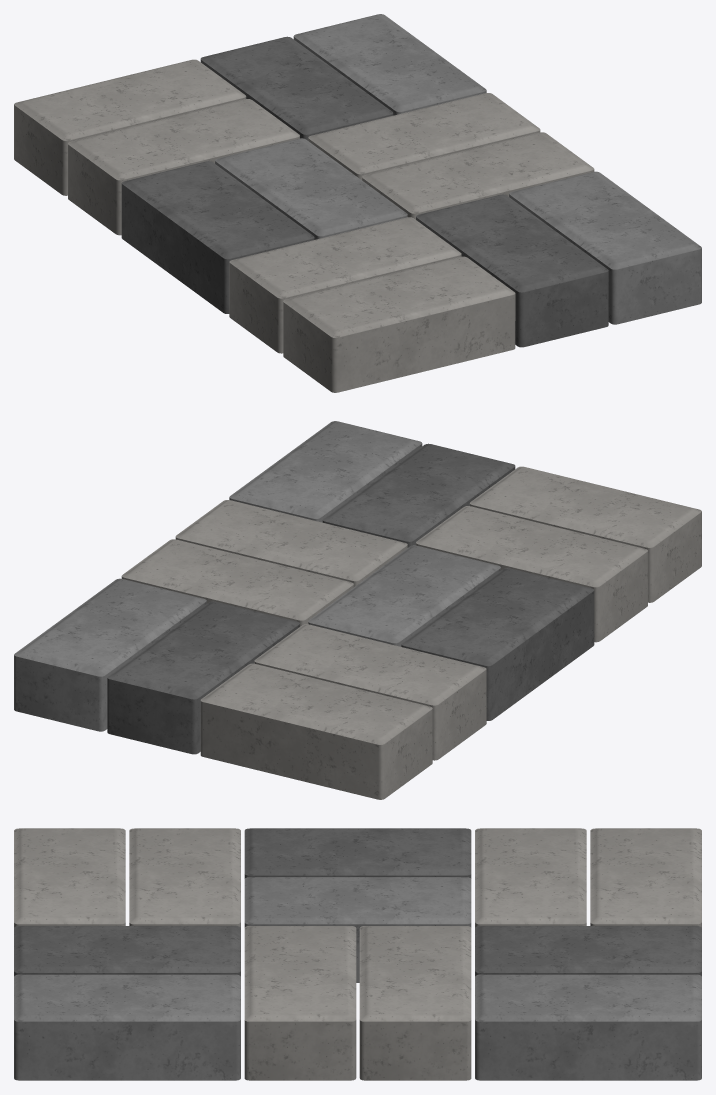
The model's file is basket-weave.glb.
3 renders of one model, top to bottom at view 1: azimuth 30°, elevation 25°; view 2: azimuth 150°, elevation 25°; view 3: azimuth 270°, elevation 25°, orthographic. The views are drawn at different scales.
Parts seen in each view (by area): view 1: Colonial Classic.021, Colonial Classic.017, Colonial Classic.027, Colonial Classic.026, Colonial Classic.020, Colonial Classic.023, Colonial Classic.022, Colonial Classic.018, Colonial Classic.013, Colonial Classic.025, Colonial Classic.024, Colonial Classic.014; view 2: Colonial Classic.022, Colonial Classic.017, Colonial Classic.025, Colonial Classic.024, Colonial Classic.023, Colonial Classic.020, Colonial Classic.021, Colonial Classic.013, Colonial Classic.018, Colonial Classic.027, Colonial Classic.014, Colonial Classic.026; view 3: Colonial Classic.024, Colonial Classic.026, Colonial Classic.013, Colonial Classic.018, Colonial Classic.014, Colonial Classic.017, Colonial Classic.025, Colonial Classic.027, Colonial Classic.020, Colonial Classic.021, Colonial Classic.022, Colonial Classic.023.
Boxes of the visible parts, x1,y1,x2,y2 form: Colonial Classic.021: (283, 256, 515, 392); Colonial Classic.017: (121, 161, 314, 313); Colonial Classic.027: (416, 194, 608, 347); Colonial Classic.026: (509, 171, 701, 324); Colonial Classic.020: (229, 217, 461, 353); Colonial Classic.023: (68, 99, 299, 235); Colonial Classic.022: (14, 59, 246, 195); Colonial Classic.018: (362, 132, 594, 219); Colonial Classic.013: (308, 93, 540, 179); Colonial Classic.025: (200, 36, 393, 140); Colonial Classic.024: (293, 14, 486, 115); Colonial Classic.014: (215, 138, 407, 239); Colonial Classic.022: (200, 663, 432, 799); Colonial Classic.017: (401, 568, 594, 720); Colonial Classic.025: (107, 601, 299, 754); Colonial Classic.024: (14, 578, 206, 731); Colonial Classic.023: (254, 624, 486, 760); Colonial Classic.020: (416, 506, 647, 642); Colonial Classic.021: (469, 466, 701, 602); Colonial Classic.013: (121, 539, 353, 626); Colonial Classic.018: (175, 500, 407, 586); Colonial Classic.027: (322, 443, 515, 547); Colonial Classic.014: (308, 545, 500, 646); Colonial Classic.026: (229, 421, 422, 522); Colonial Classic.024: (475, 974, 701, 1080); Colonial Classic.026: (14, 974, 240, 1080); Colonial Classic.013: (359, 926, 471, 1080); Colonial Classic.018: (244, 926, 356, 1080); Colonial Classic.014: (244, 877, 471, 982); Colonial Classic.017: (244, 828, 471, 878); Colonial Classic.025: (475, 926, 701, 976); Colonial Classic.027: (14, 926, 240, 976); Colonial Classic.020: (129, 828, 240, 927); Colonial Classic.021: (14, 828, 125, 927); Colonial Classic.022: (590, 828, 701, 927); Colonial Classic.023: (475, 828, 586, 927).
Size of the model in its own units: 0.4032 by 0.0603 by 0.6064.
3 materials, 3 textured.
